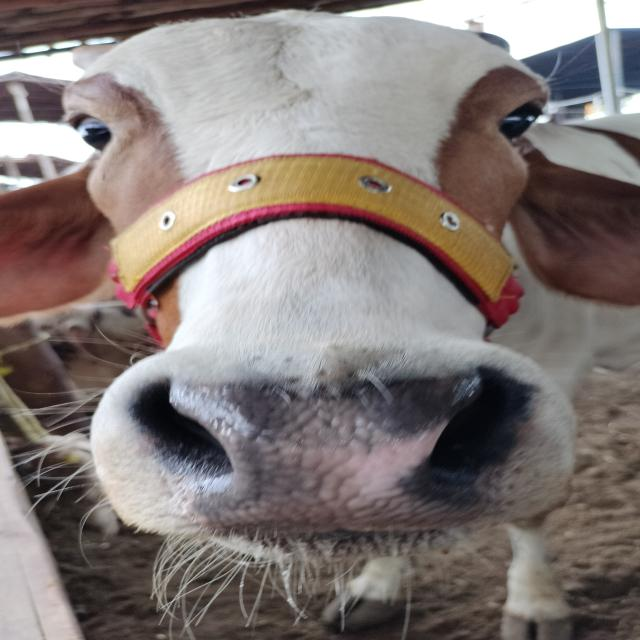muzzles: (106, 352, 540, 534)
